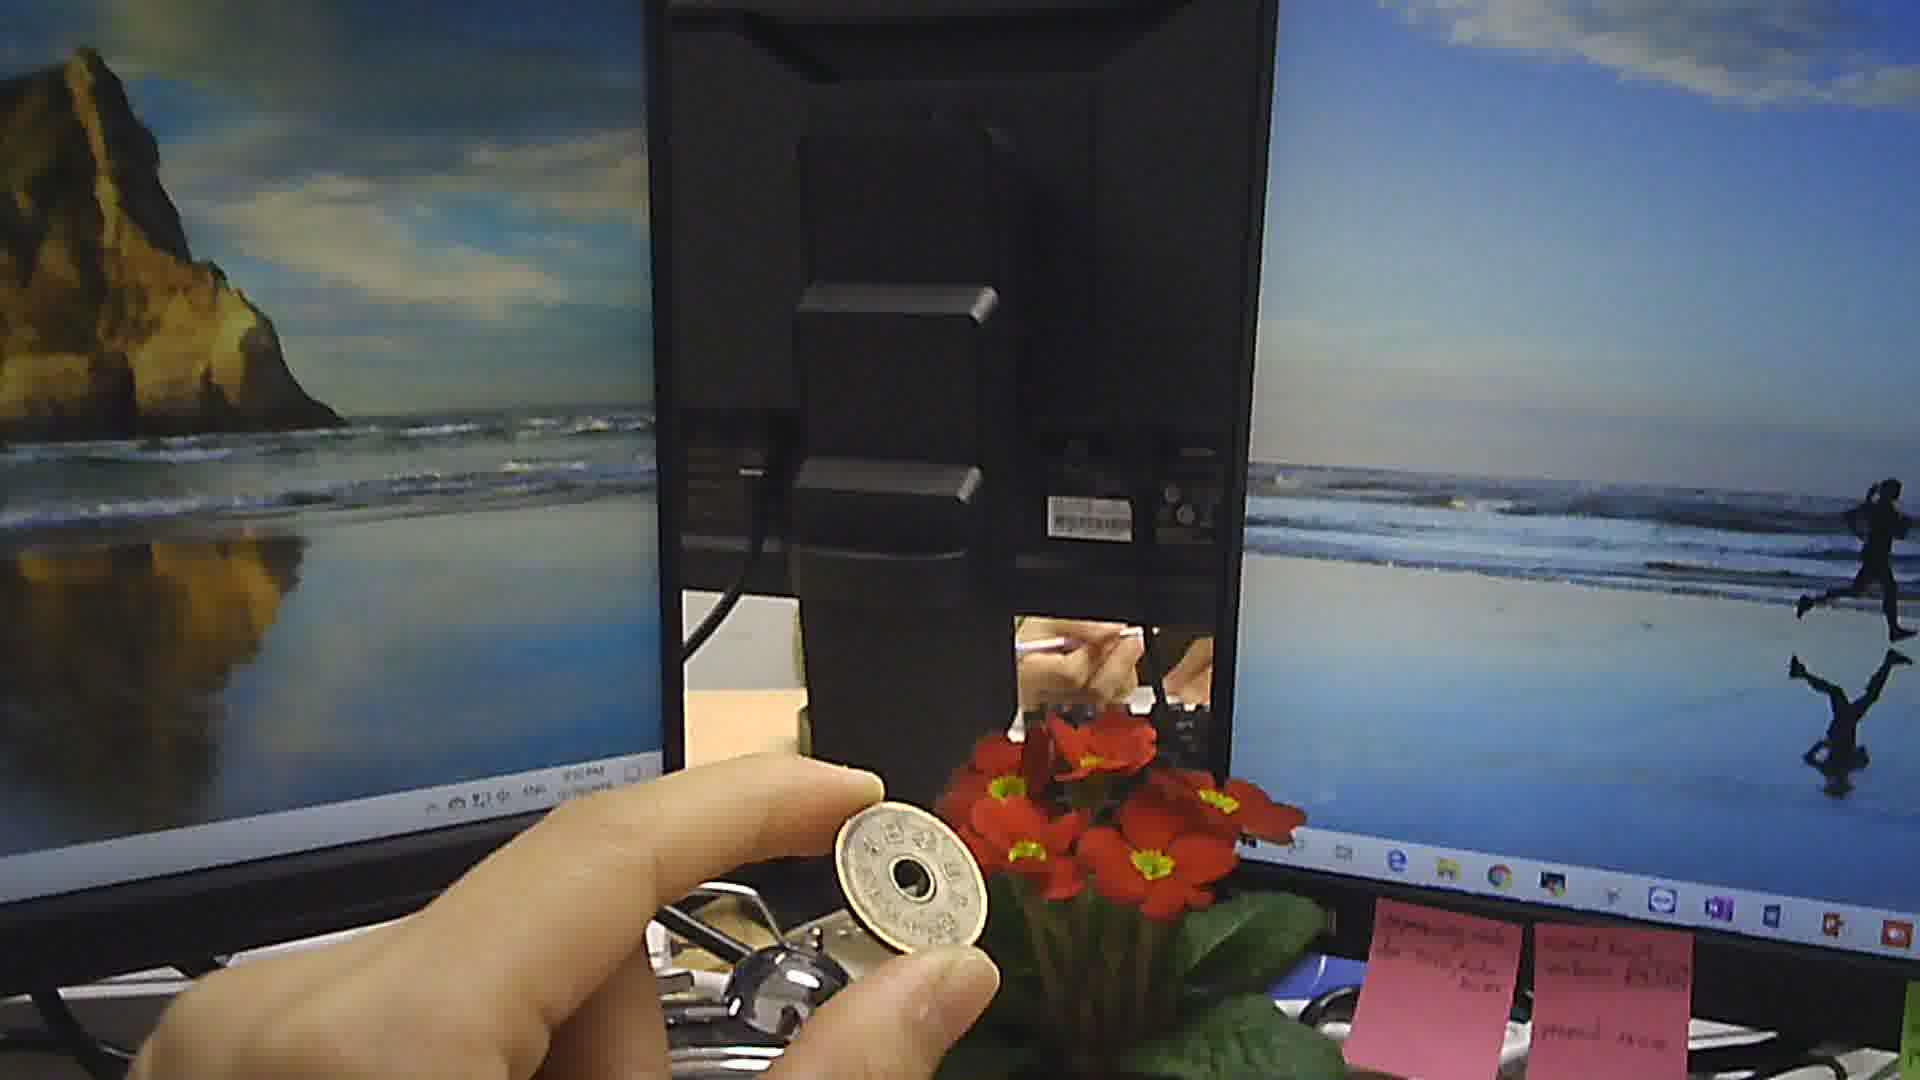5 Yen: (829, 796, 994, 971)
